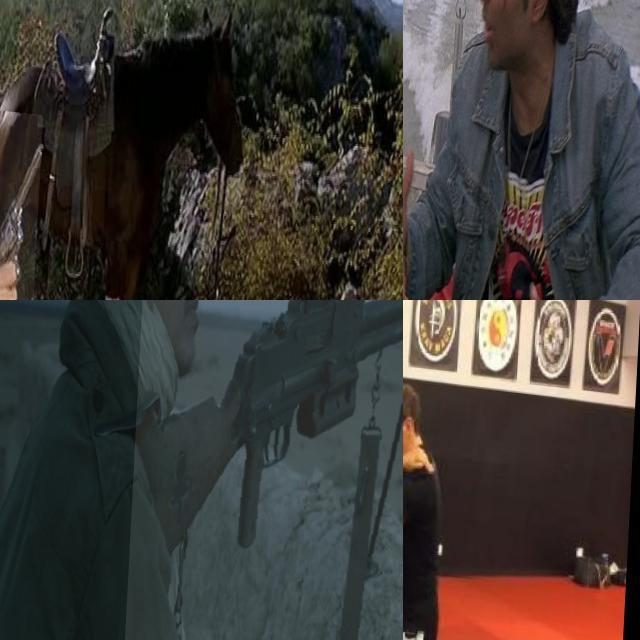-: (403, 613, 426, 640)
gun-knife-thesis - v11 Yolov5 augmented: (130, 300, 403, 640), (0, 103, 46, 300), (403, 84, 438, 268)
